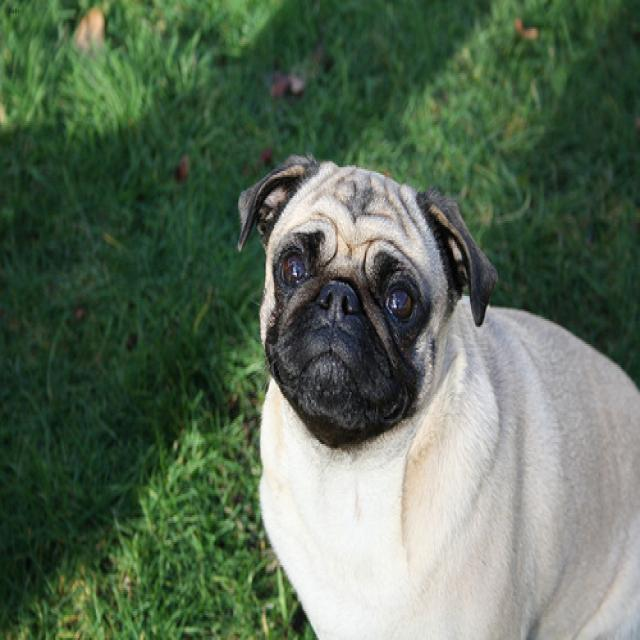dog-pug: (229, 146, 637, 636)
